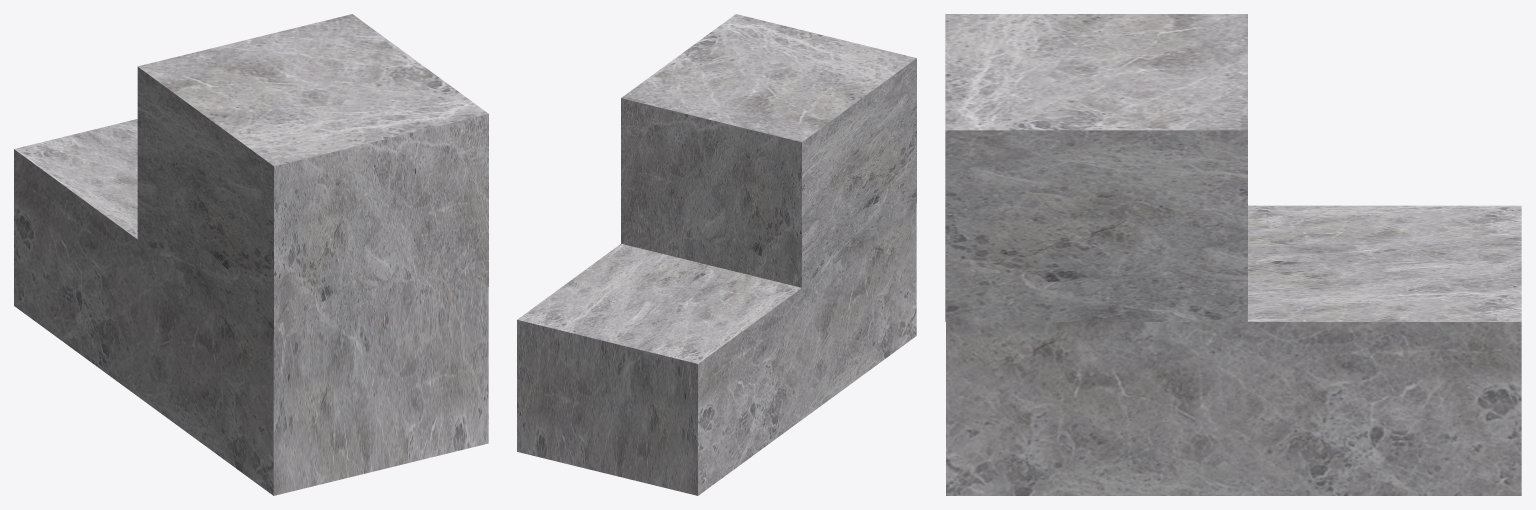
File: Plat3.fbx
3 views of the same model, side by side, from view 1: azimuth 30°, elevation 25°; view 2: azimuth 150°, elevation 25°; view 3: azimuth 270°, elevation 25° (orthographic). The views are drawn at different scales.
Parts seen in each view (by area): view 1: plat3; view 2: plat3; view 3: plat3.
Boxes of the visible parts, x1=… form: plat3: x1=14, y1=14, x2=488, y2=495; plat3: x1=517, y1=14, x2=916, y2=495; plat3: x1=945, y1=14, x2=1521, y2=495.
Bounding box in the file's own units: 0.0134 × 0.0197 × 0.0282.
1 material, 1 textured.
